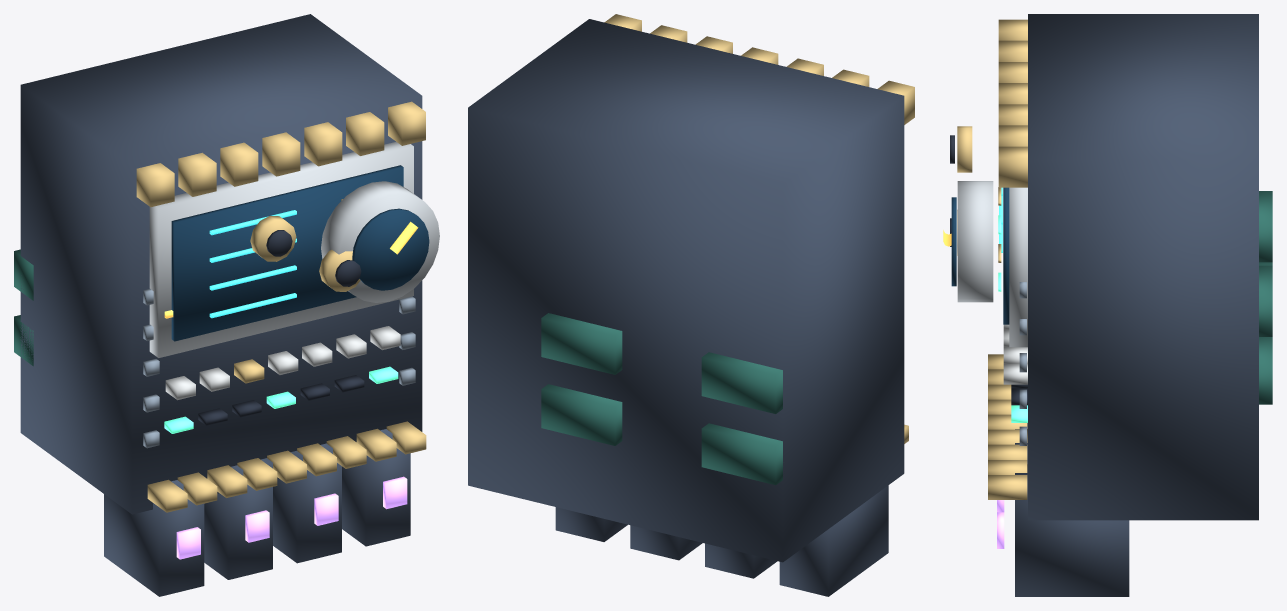
The model's file is 68_L91_PulseAmbiguityResolver.glb.
3 views of the same model, side by side, from view 1: azimuth 30°, elevation 25°; view 2: azimuth 150°, elevation 25°; view 3: azimuth 270°, elevation 25° (orthographic). The views are drawn at different scales.
Parts seen in each view (by area): view 1: L91_PulseAmbiguityResolver, L91_PulseAmbiguityResolver_Part_0013, L91_PulseAmbiguityResolver_Part_0014, L91_PulseAmbiguityResolver_Part_0016; view 2: L91_PulseAmbiguityResolver; view 3: L91_PulseAmbiguityResolver, L91_PulseAmbiguityResolver_Part_0014.
Part boxes in pixels (x1,y1,x2,y2): L91_PulseAmbiguityResolver: (14, 14, 439, 596); L91_PulseAmbiguityResolver_Part_0013: (176, 476, 407, 559); L91_PulseAmbiguityResolver_Part_0014: (250, 216, 296, 261); L91_PulseAmbiguityResolver_Part_0016: (319, 249, 360, 291); L91_PulseAmbiguityResolver: (468, 14, 914, 596); L91_PulseAmbiguityResolver: (951, 14, 1272, 596); L91_PulseAmbiguityResolver_Part_0014: (957, 126, 972, 172).
Bounding box in the file's own units: 0.969 × 1.38 × 0.921.
